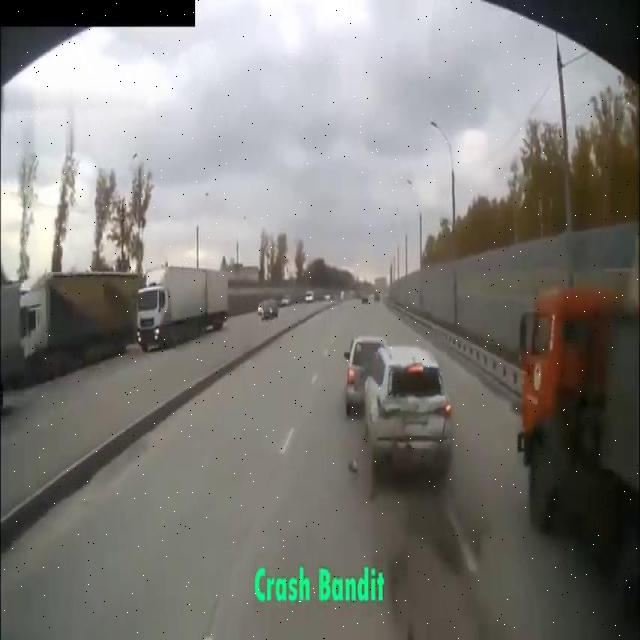severe: (340, 330, 456, 490)
